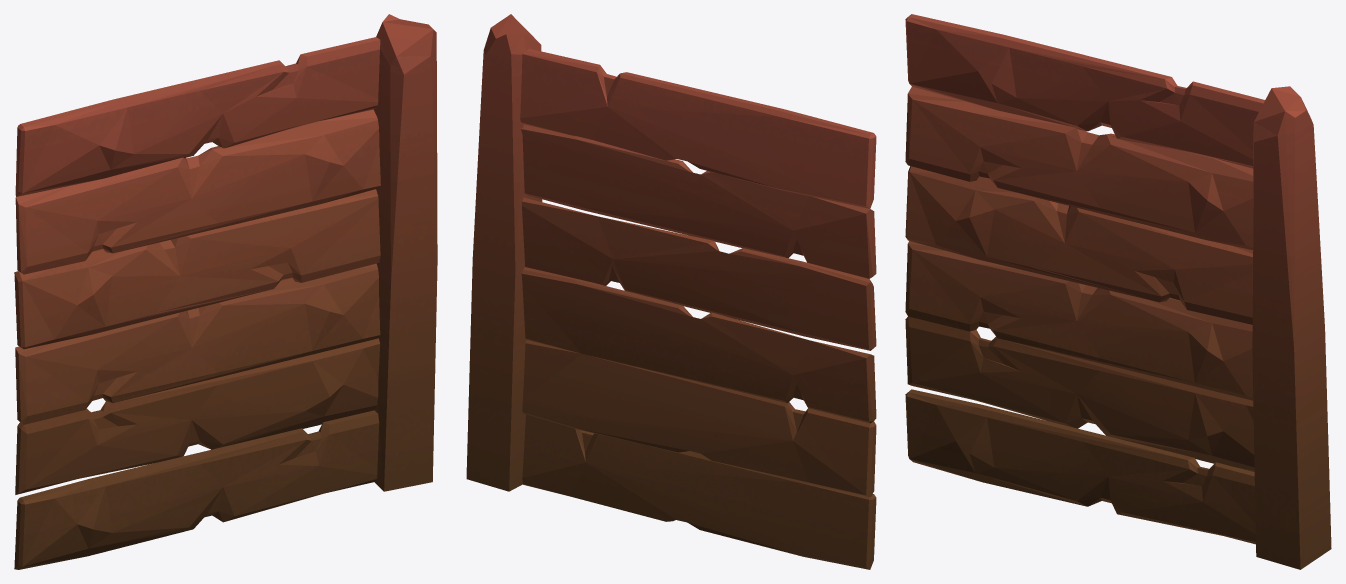
The picture shows the model from 3 angles, left to right: view 1: azimuth 30°, elevation 25°; view 2: azimuth 150°, elevation 25°; view 3: azimuth 330°, elevation 25°; orthographic projection. The views are drawn at different scales.
Visible parts, largest first — view 1: WoodenWall1; view 2: WoodenWall1; view 3: WoodenWall1.
Boxes of the visible parts, <box> form: WoodenWall1: <box>14,14,437,569</box>; WoodenWall1: <box>466,14,876,569</box>; WoodenWall1: <box>905,14,1331,569</box>.
Size of the model in its own units: 54.74 by 60 by 9.21.
1 material, 1 textured.
